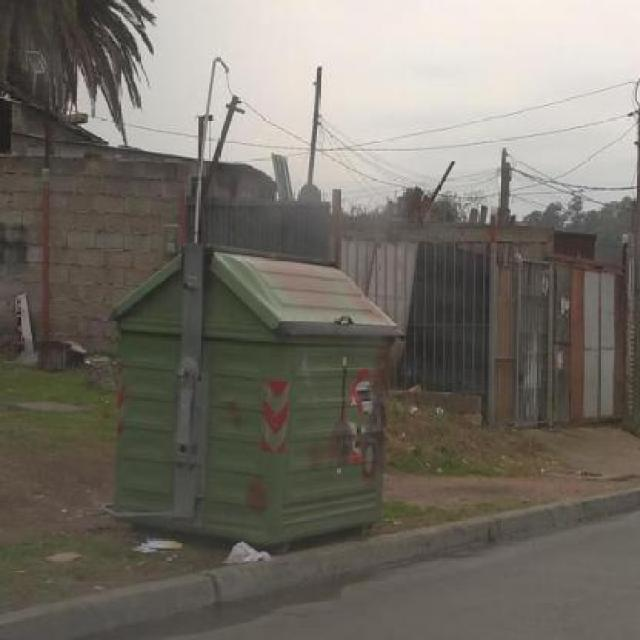garbage: (111, 525, 280, 584)
